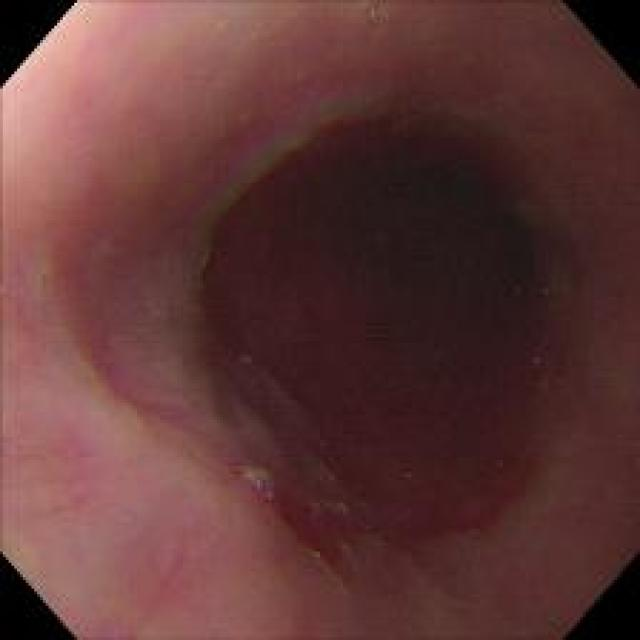bubbles: (356, 1, 392, 22)
color misalignment: (206, 128, 302, 242)
contrast: (259, 106, 544, 470)
